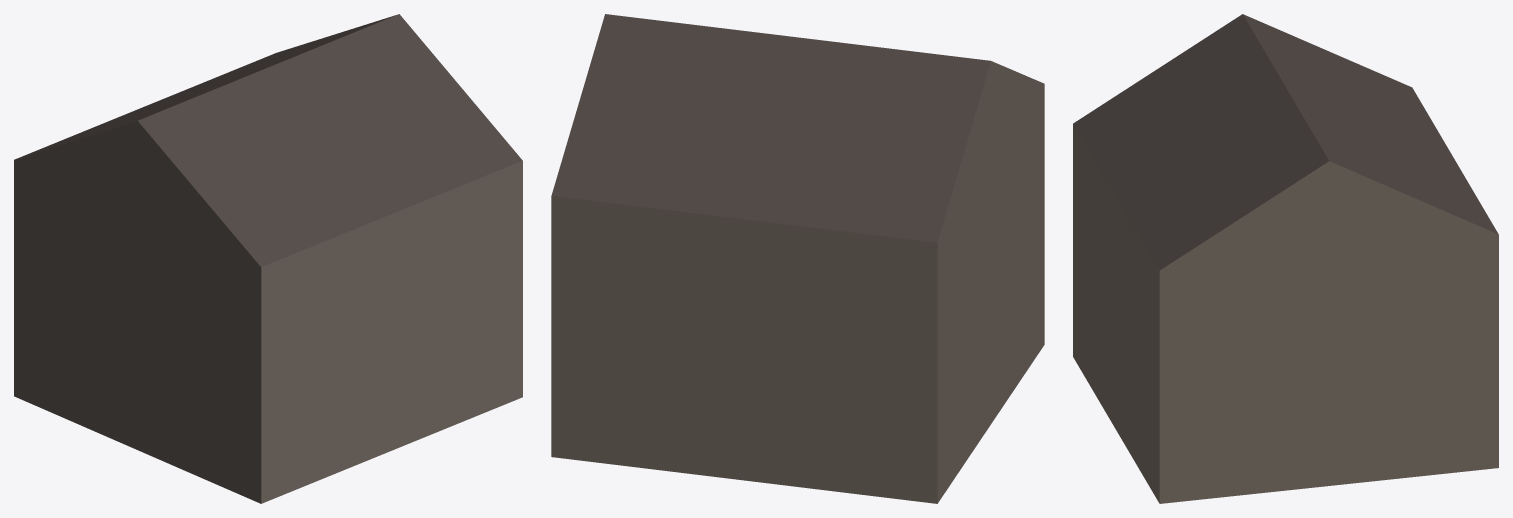
3 renders of one model, left to right at view 1: azimuth 30°, elevation 25°; view 2: azimuth 150°, elevation 25°; view 3: azimuth 270°, elevation 25°, orthographic. The views are drawn at different scales.
Parts seen in each view (by area): view 1: HP-w1376988672; view 2: HP-w1376988672; view 3: HP-w1376988672.
Boxes of the visible parts, x1=… form: HP-w1376988672: x1=14, y1=14, x2=522, y2=503; HP-w1376988672: x1=551, y1=14, x2=1044, y2=503; HP-w1376988672: x1=1073, y1=14, x2=1498, y2=503.
Size of the model in its own units: 10.1 by 8.35 by 9.92.
